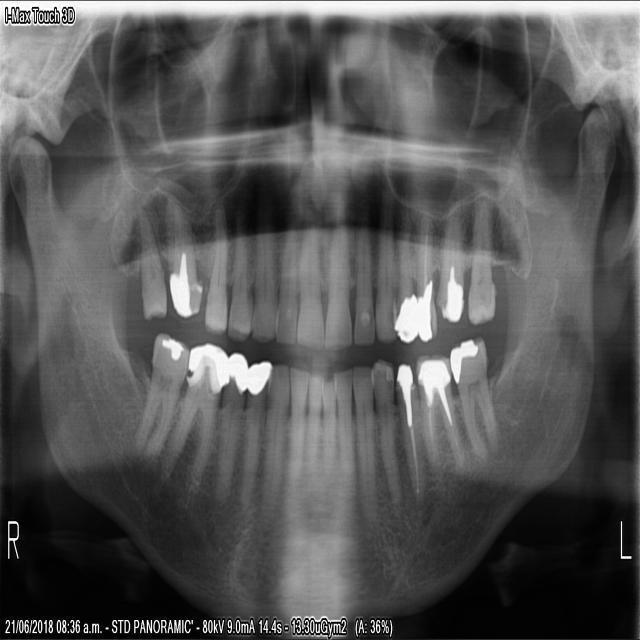LCD: (353, 362, 377, 526)
LCU: (374, 180, 397, 345)
LID: (331, 364, 355, 502), (321, 378, 336, 493)
LIU: (324, 176, 351, 352), (352, 185, 375, 348)
LMD: (447, 332, 501, 461), (414, 348, 467, 472)
LMU: (464, 183, 496, 329), (435, 186, 467, 327)
LPMD: (394, 361, 425, 511), (372, 355, 400, 507)
LPMU: (396, 185, 417, 347), (415, 194, 436, 344)
RCD: (256, 361, 287, 534)
RCU: (248, 184, 275, 348)
RID: (288, 364, 308, 509), (306, 369, 323, 485)
RIU: (294, 182, 325, 352), (273, 181, 302, 347)
RMD: (156, 336, 226, 502), (131, 327, 188, 461)
RMU: (162, 188, 202, 319), (136, 202, 166, 327)
RPMD: (210, 348, 247, 508), (238, 356, 269, 511)
RPMU: (225, 186, 249, 344), (201, 199, 228, 334)
